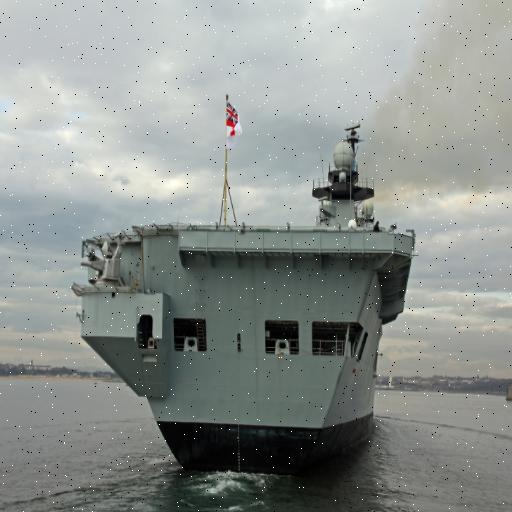Portanaves: (77, 66, 427, 490)
